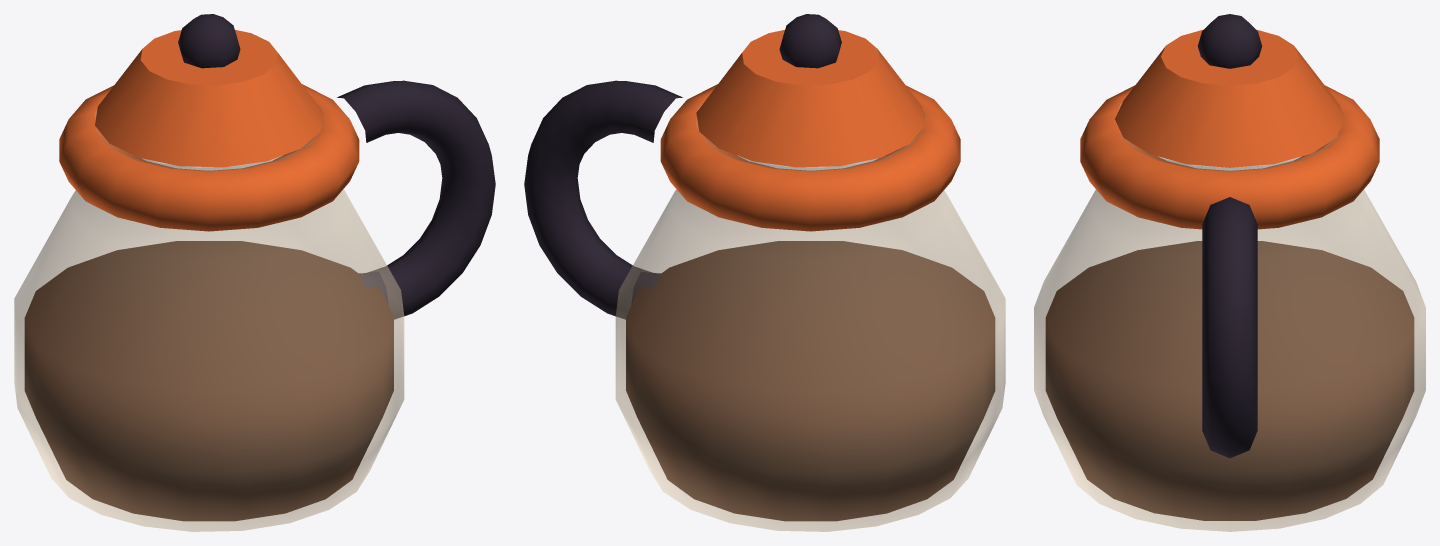
The model's file is gag_pot.glb.
The picture shows the model from 3 angles, left to right: view 1: azimuth 30°, elevation 25°; view 2: azimuth 150°, elevation 25°; view 3: azimuth 270°, elevation 25°; orthographic projection.
Parts seen in each view (by area): view 1: gag_pot; view 2: gag_pot; view 3: gag_pot.
Part boxes in pixels (x1=…): gag_pot: x1=14, y1=14, x2=495, y2=531; gag_pot: x1=524, y1=14, x2=1005, y2=531; gag_pot: x1=1034, y1=14, x2=1425, y2=531.
Bounding box in the file's own units: 0.227 × 0.219 × 0.17.
